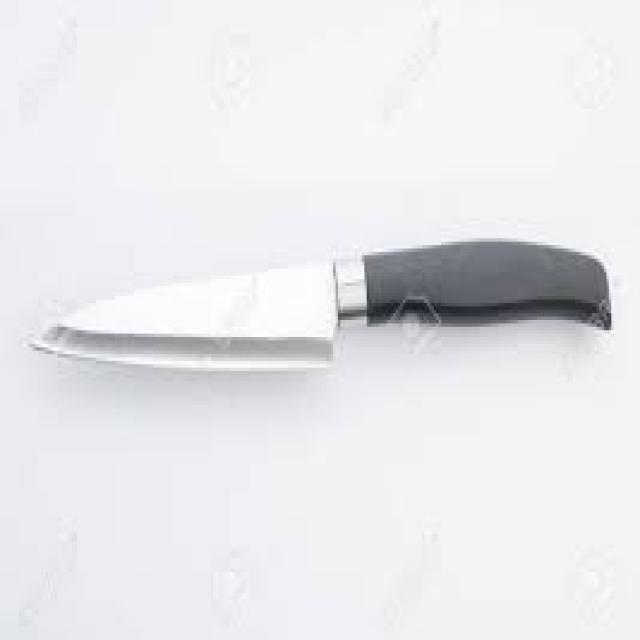Knife: (26, 235, 612, 371)
